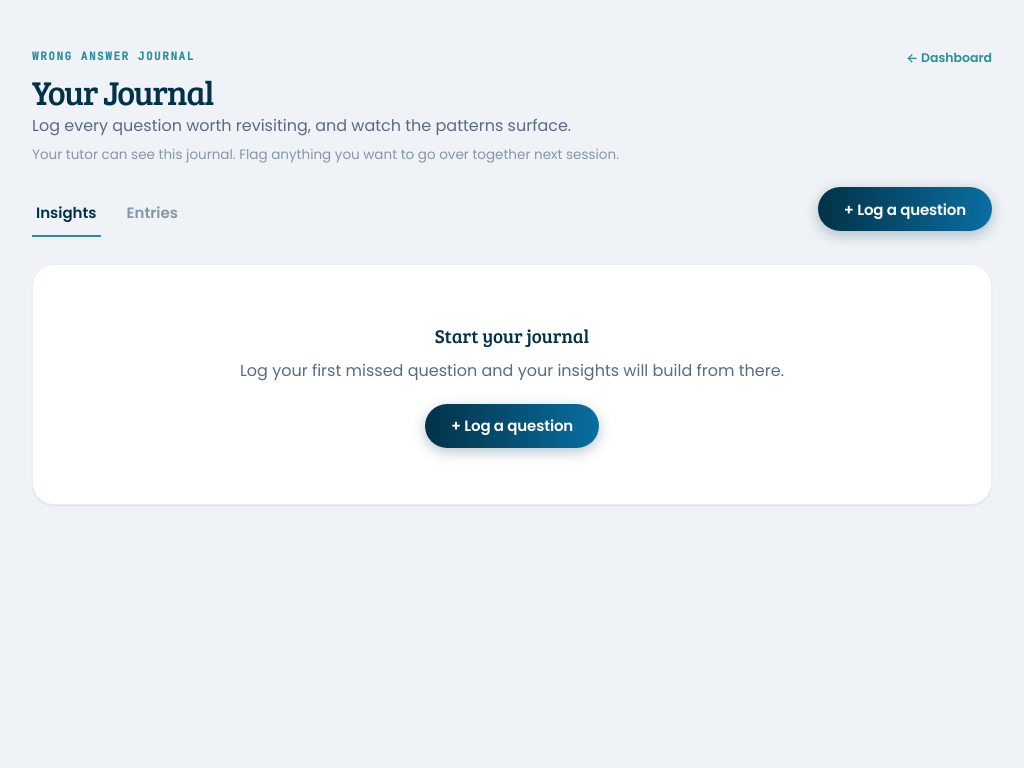
Scenario: Journal — log modal › auto-classifies an LR question once PT·Section·Question are entered
Click the 1st button "+ Log a question" at (905, 209), box x1=818 y1=187 x2=992 y2=231
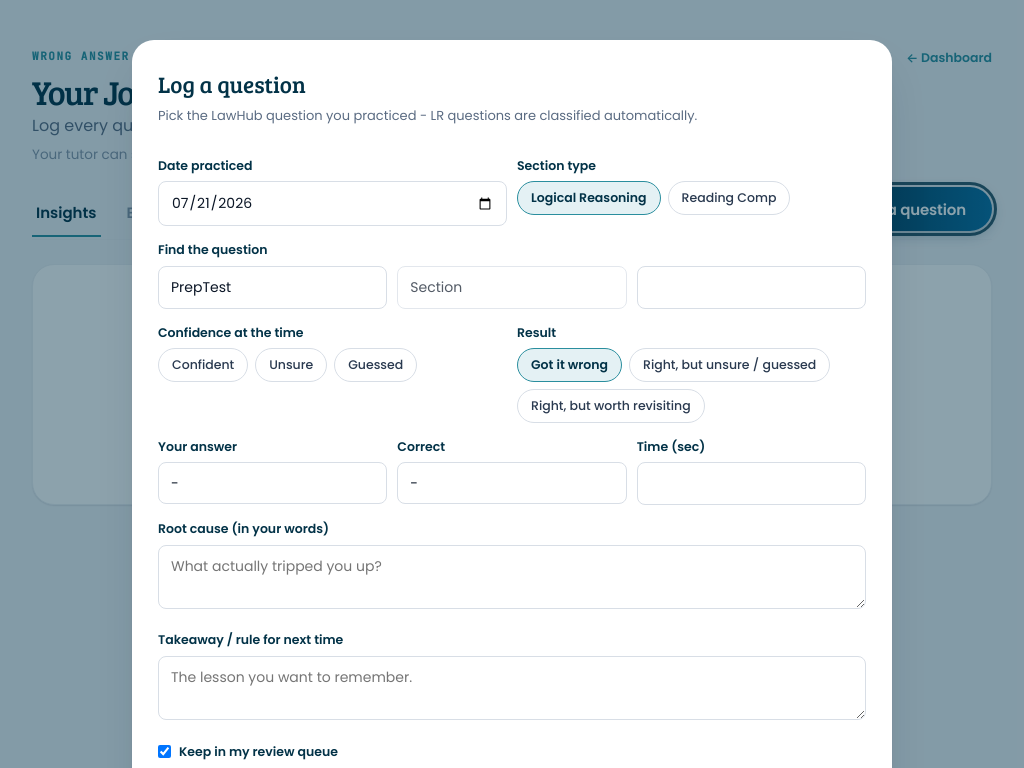
Select "PT 120" in the dropdown named "PrepTest" at (273, 287), box x1=158 y1=266 x2=387 y2=308
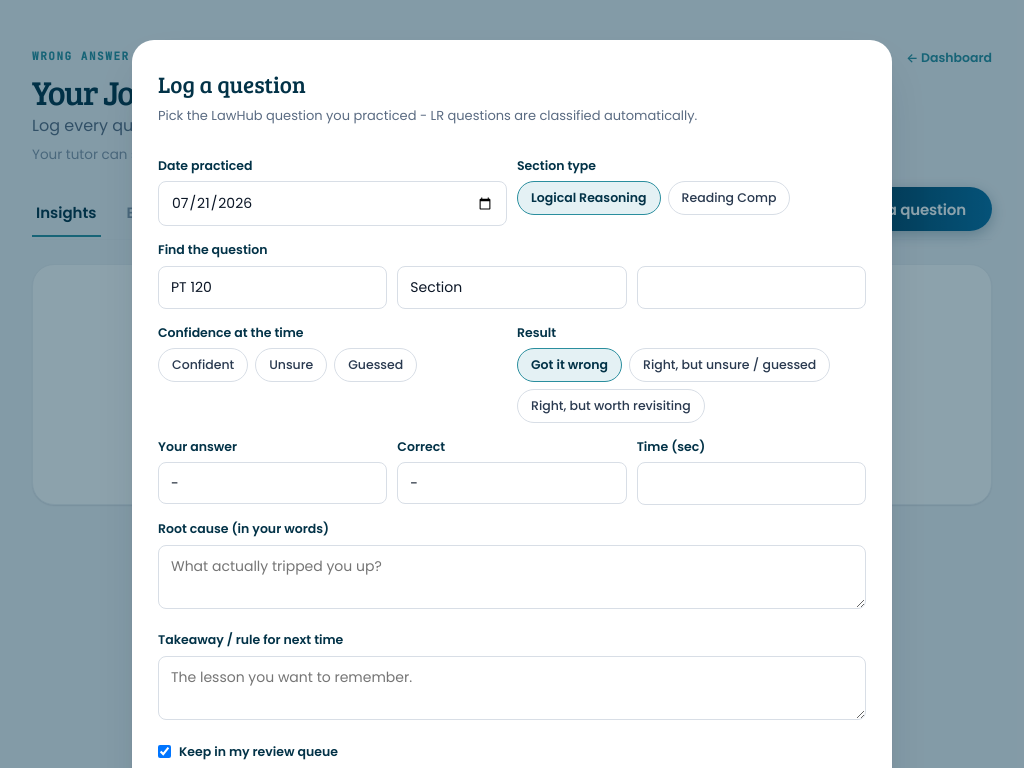
Select "Section 2" in the dropdown named "Section" at (512, 287), box x1=397 y1=266 x2=627 y2=308
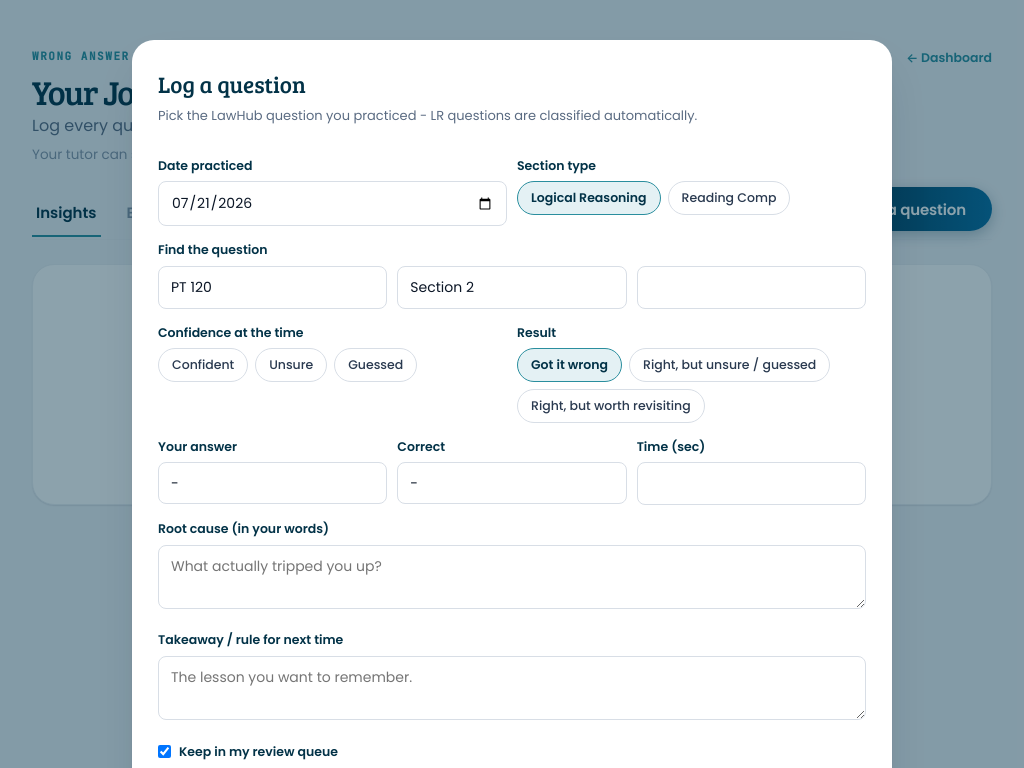
Type "5" into the field named "Question number" at (751, 287), box x1=637 y1=266 x2=866 y2=308
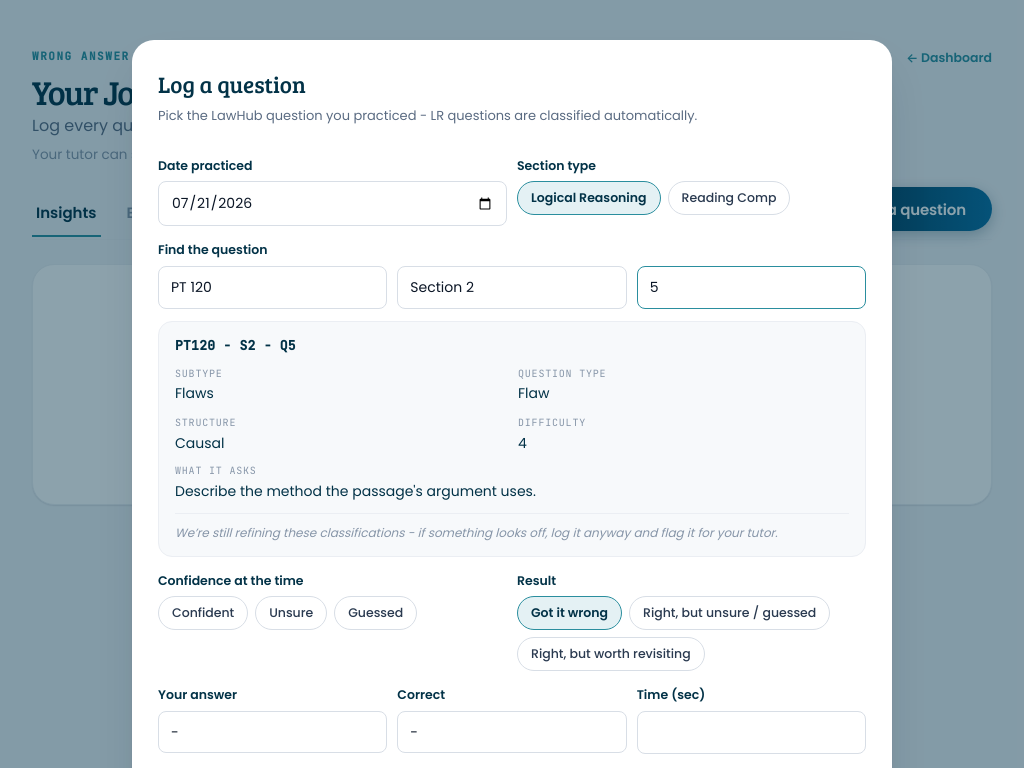
Now the text "PT120 - S2 - Q5" is shown, box x1=175 y1=336 x2=296 y2=354
Now the text "Flaws" is shown, box x1=175 y1=383 x2=214 y2=403
